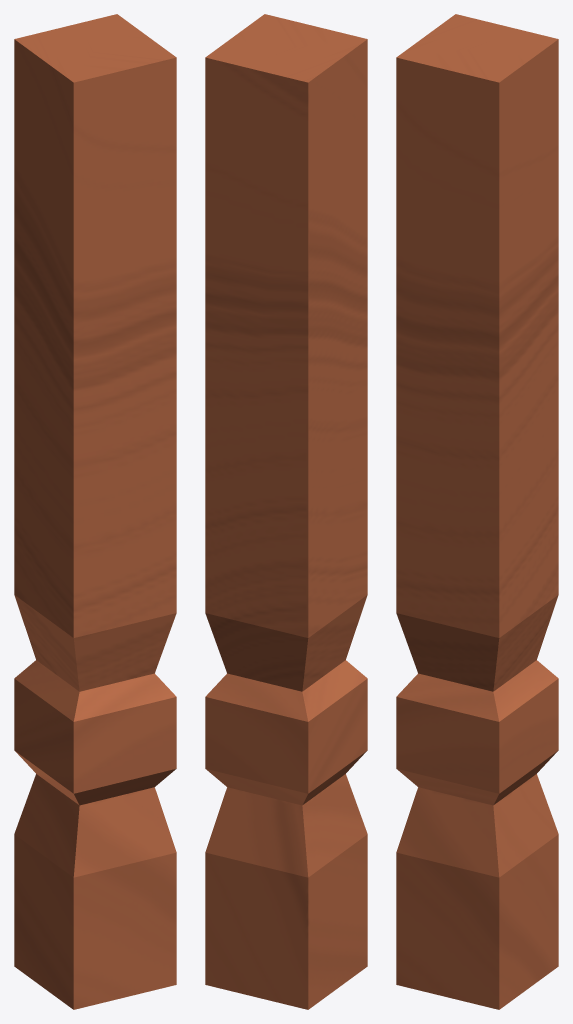
File: Table-Leg.fbx
3 views of the same model, side by side, from view 1: azimuth 30°, elevation 25°; view 2: azimuth 150°, elevation 25°; view 3: azimuth 330°, elevation 25° (orthographic).
Parts seen in each view (by area): view 1: Table-Leg; view 2: Table-Leg; view 3: Table-Leg.
Part boxes in pixels (box(x1,y1,x2,y2)): Table-Leg: box(14, 14, 176, 1009); Table-Leg: box(205, 14, 367, 1009); Table-Leg: box(396, 14, 558, 1009).
Bounding box in the file's own units: 30 × 258 × 30.
1 material, 1 textured.
